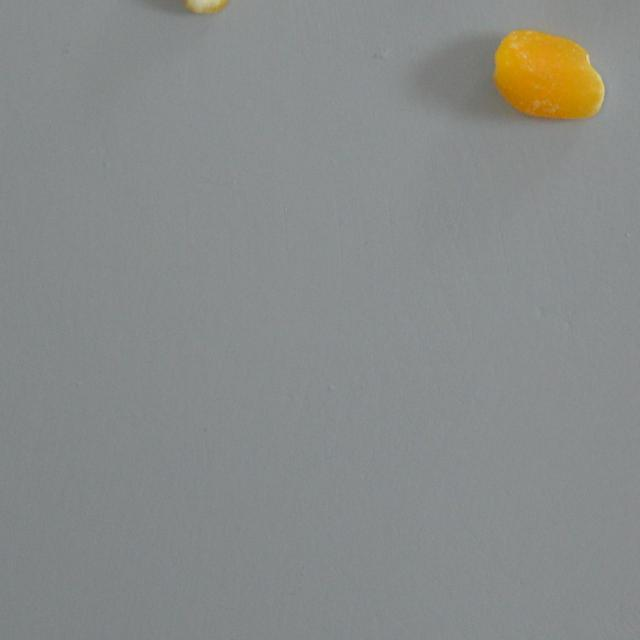dañado: (490, 21, 608, 126), (170, 0, 251, 22)
